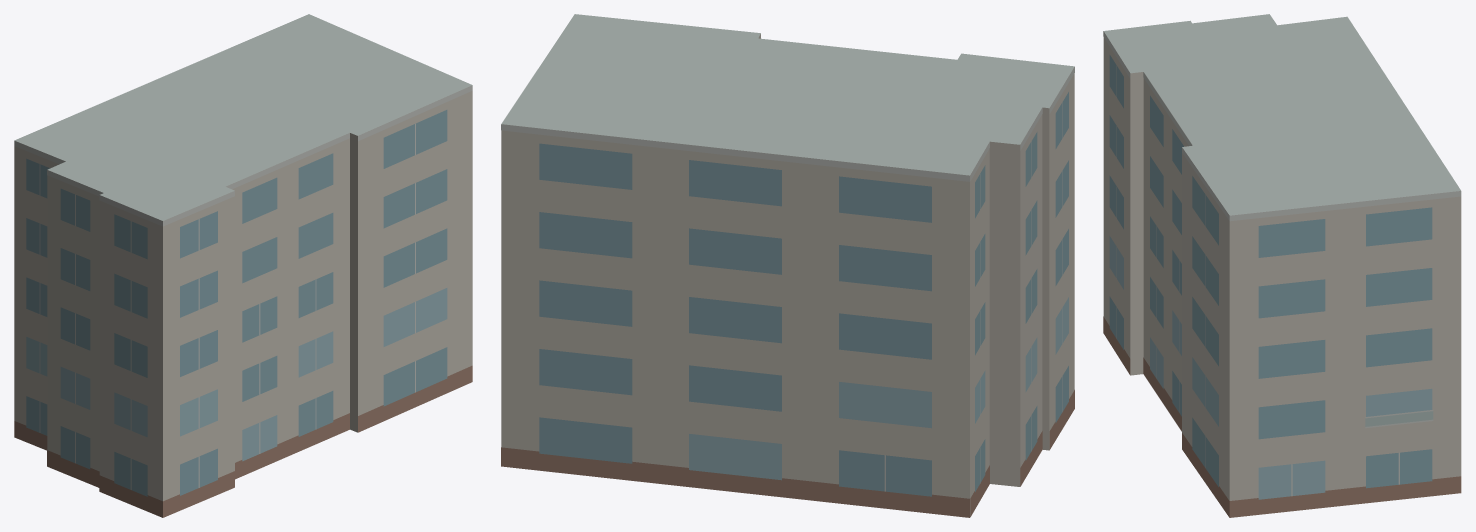
The model's file is survey-upis-32539303.glb.
3 views of the same model, side by side, from view 1: azimuth 30°, elevation 25°; view 2: azimuth 150°, elevation 25°; view 3: azimuth 270°, elevation 25° (orthographic). The views are drawn at different scales.
Parts seen in each view (by area): view 1: survey-upis-32539303.tmp; view 2: survey-upis-32539303.tmp; view 3: survey-upis-32539303.tmp.
Part boxes in pixels (x1,y1,x2,y2): survey-upis-32539303.tmp: [14, 14, 472, 517]; survey-upis-32539303.tmp: [501, 14, 1074, 517]; survey-upis-32539303.tmp: [1103, 14, 1461, 517].
Bounding box in the file's own units: 18.9 × 13.2 × 14.17.
